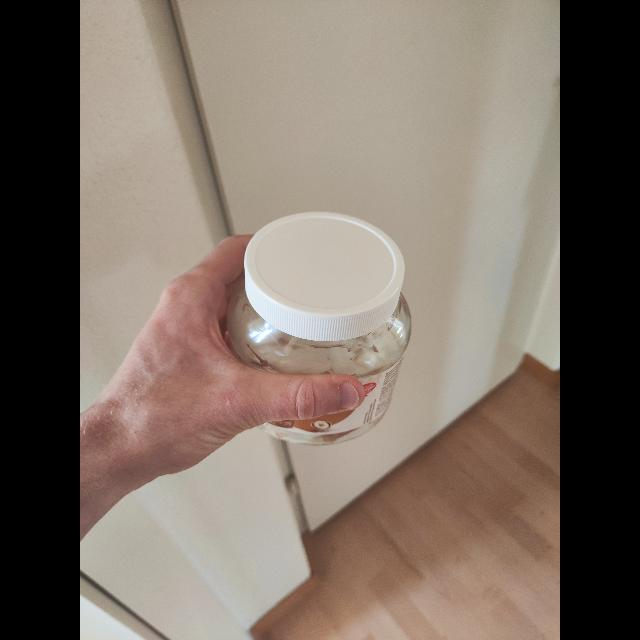Glass: (220, 287, 420, 448)
Plastic: (235, 209, 405, 341)
